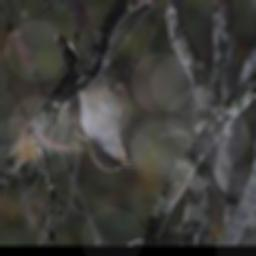Cuckoo: (52, 31, 139, 172)
